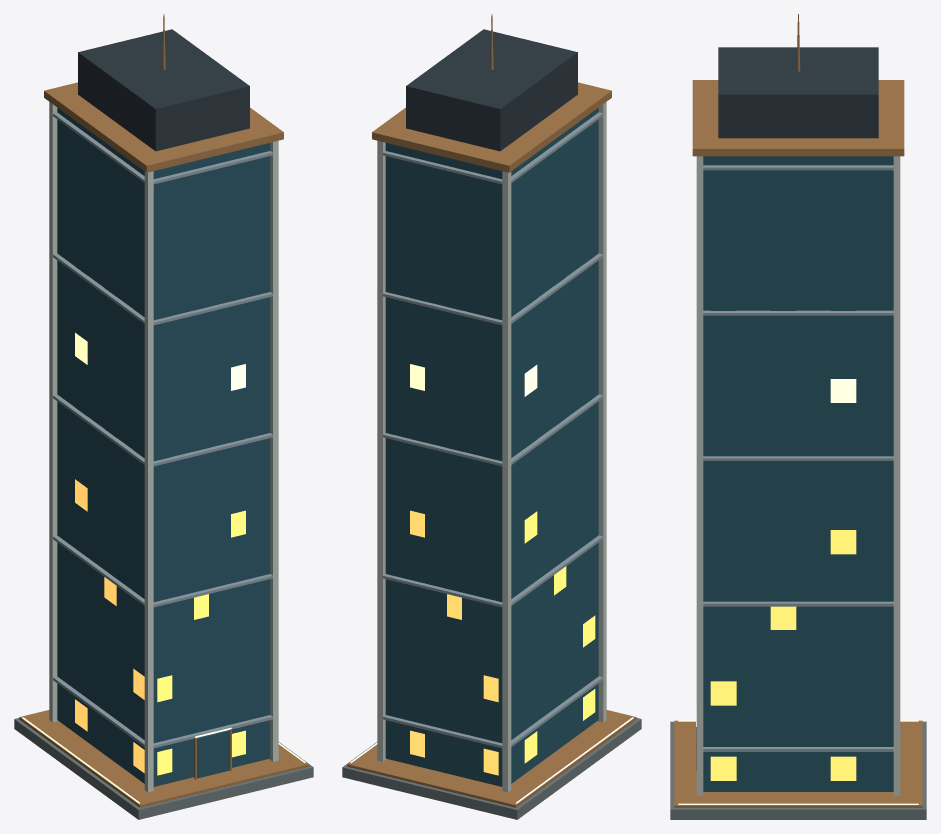
Rendered from data-tower-b.lod2.glb.
3 views of the same model, side by side, from view 1: azimuth 30°, elevation 25°; view 2: azimuth 150°, elevation 25°; view 3: azimuth 270°, elevation 25° (orthographic). The views are drawn at different scales.
Visible parts, largest first — view 1: structure; view 2: structure; view 3: structure.
Boxes of the visible parts, bbox=[...] form: structure: bbox=[14, 14, 313, 819]; structure: bbox=[342, 14, 641, 819]; structure: bbox=[670, 14, 926, 819].
Bounding box in the file's own units: 13 × 52.4 × 16.
